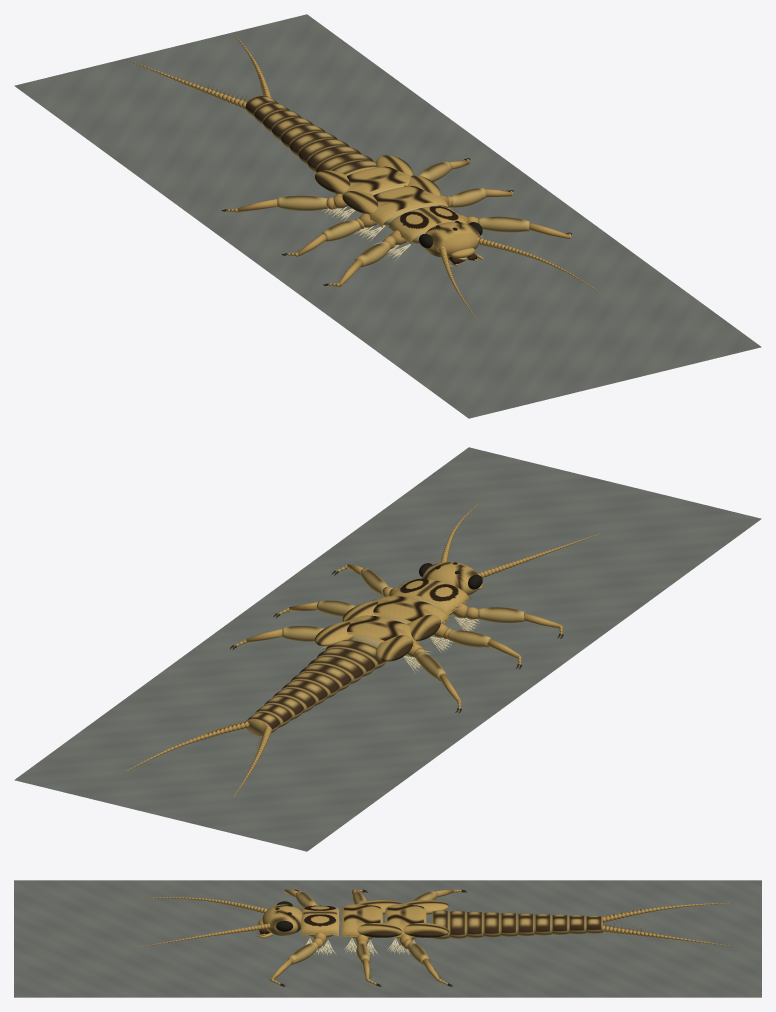
Rendered from Perla_marginata_animada.glb.
3 views of the same model, one above another, from view 1: azimuth 30°, elevation 25°; view 2: azimuth 150°, elevation 25°; view 3: azimuth 270°, elevation 25° (orthographic). The views are drawn at different scales.
Parts seen in each view (by area): view 1: Perla_superficie_suport, Perla_mesonot, Perla_pronot, Perla_cap, Perla_metanot, Perla_femur_1_D, Perla_femur_3_E; view 2: Perla_superficie_suport, Perla_pronot, Perla_mesonot, Perla_metanot, Perla_cap, Perla_esbos_alar_2_E; view 3: Perla_superficie_suport, Perla_pronot, Perla_mesonot, Perla_metanot, Perla_cap, Perla_esbos_alar_2_D, Perla_esbos_alar_1_D, Perla_abdomen_02, Perla_abdomen_03, Perla_cerc_D, Perla_cerc_E, Perla_abdomen_04 (+14 smaller).
Boxes of the visible parts, <box> form: Perla_superficie_suport: <box>14,14,761,418</box>; Perla_mesonot: <box>369,186,448,227</box>; Perla_pronot: <box>389,206,467,244</box>; Perla_cap: <box>424,221,480,257</box>; Perla_metanot: <box>335,166,411,195</box>; Perla_femur_1_D: <box>478,216,529,232</box>; Perla_femur_3_E: <box>277,195,327,210</box>; Perla_superficie_suport: <box>14,447,761,851</box>; Perla_pronot: <box>391,578,469,614</box>; Perla_mesonot: <box>373,596,449,623</box>; Perla_metanot: <box>347,615,419,643</box>; Perla_cap: <box>422,562,478,595</box>; Perla_esbos_alar_2_E: <box>376,635,413,661</box>; Perla_superficie_suport: <box>14,880,761,997</box>; Perla_pronot: <box>301,905,338,936</box>; Perla_mesonot: <box>341,904,382,938</box>; Perla_metanot: <box>385,904,426,938</box>; Perla_cap: <box>262,904,301,935</box>; Perla_esbos_alar_2_D: <box>403,922,448,937</box>; Perla_esbos_alar_1_D: <box>357,922,402,937</box>; Perla_abdomen_02: <box>449,911,466,938</box>; Perla_abdomen_03: <box>466,911,483,938</box>; Perla_cerc_D: <box>600,925,729,946</box>; Perla_cerc_E: <box>602,902,729,922</box>; Perla_abdomen_04: <box>483,912,500,937</box>.
Size of the model in its own units: 8 by 0.98 by 21.5.
